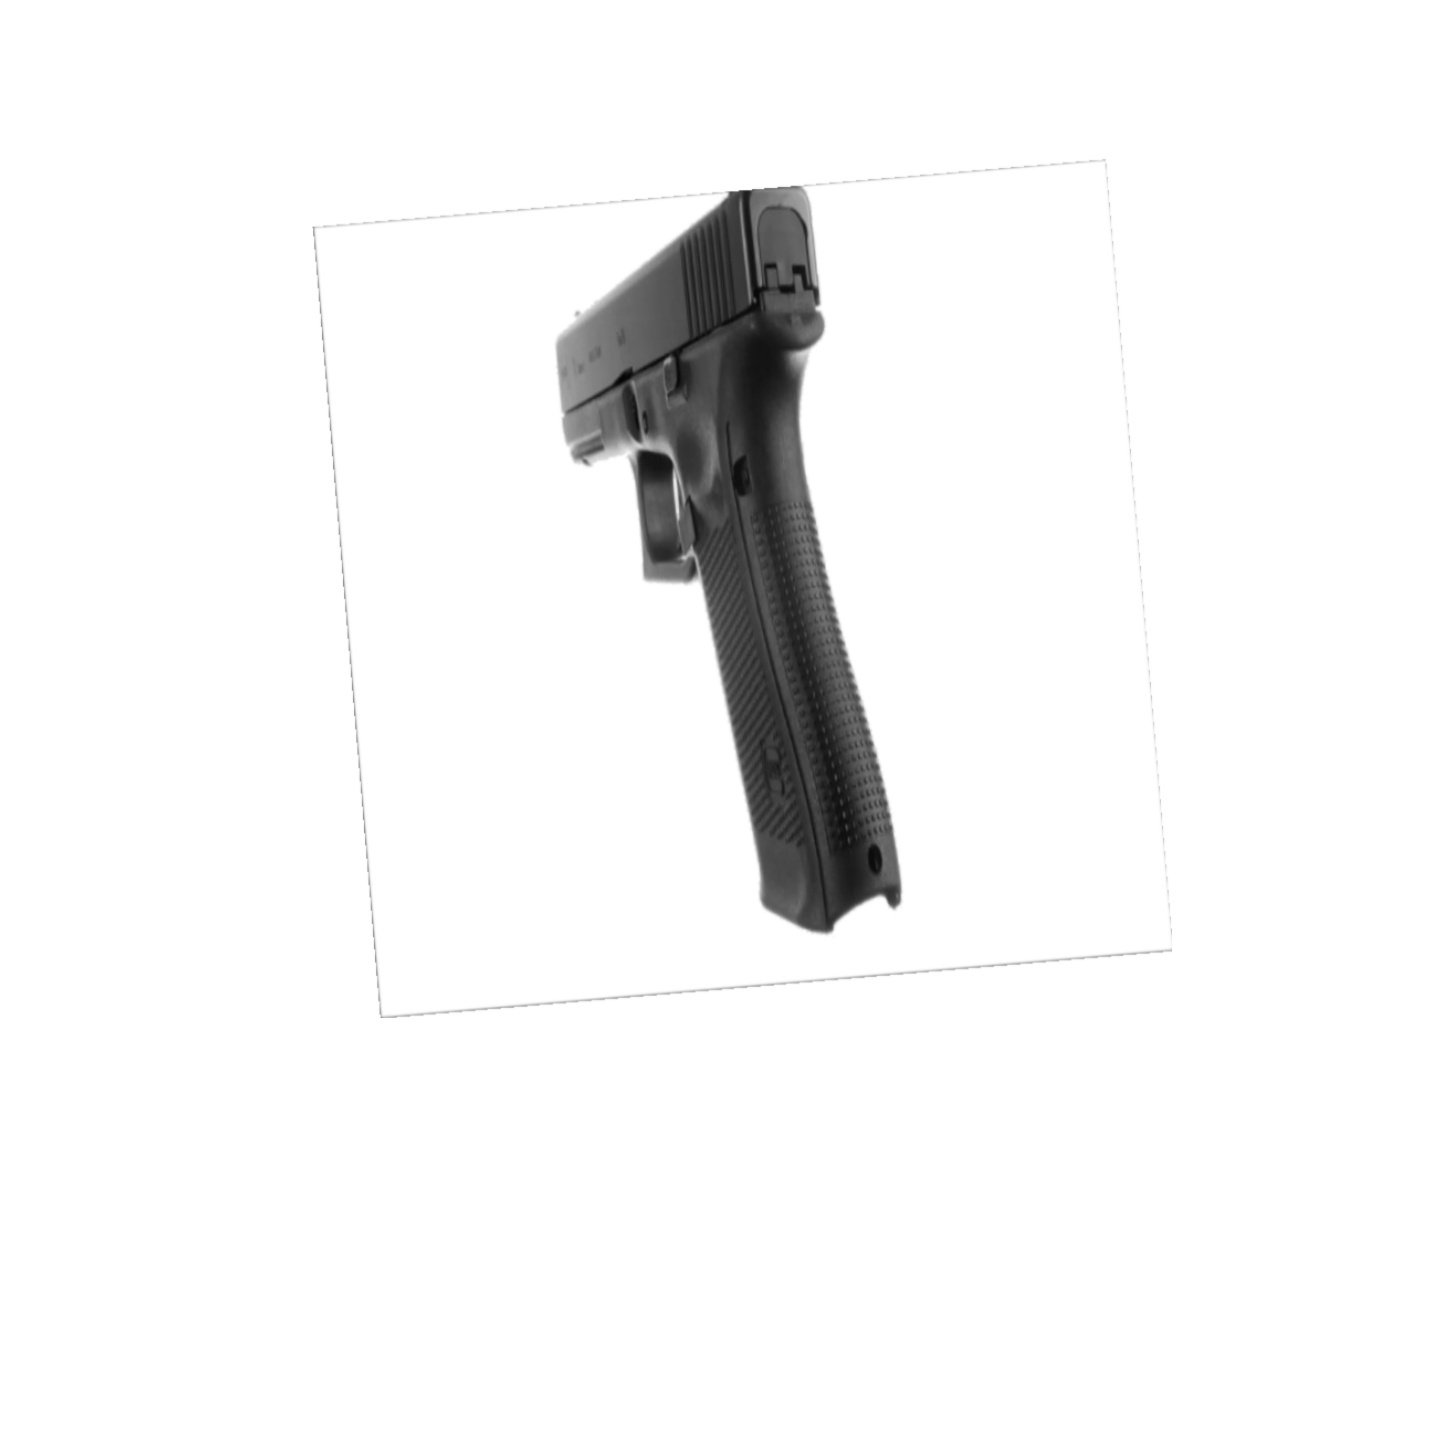gun: (548, 186, 926, 942)
